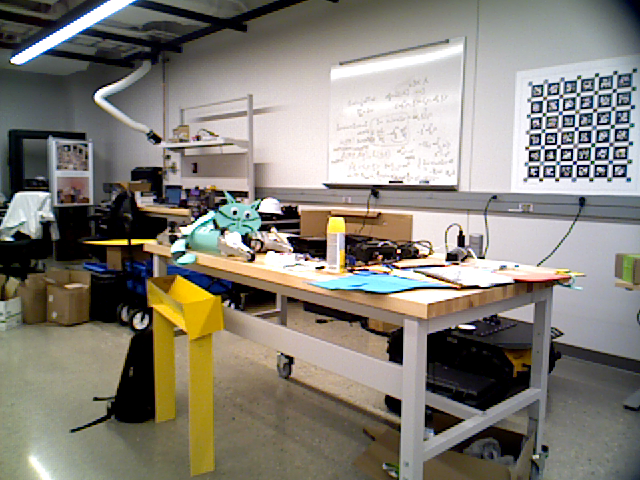painting4: (510, 61, 640, 193)
